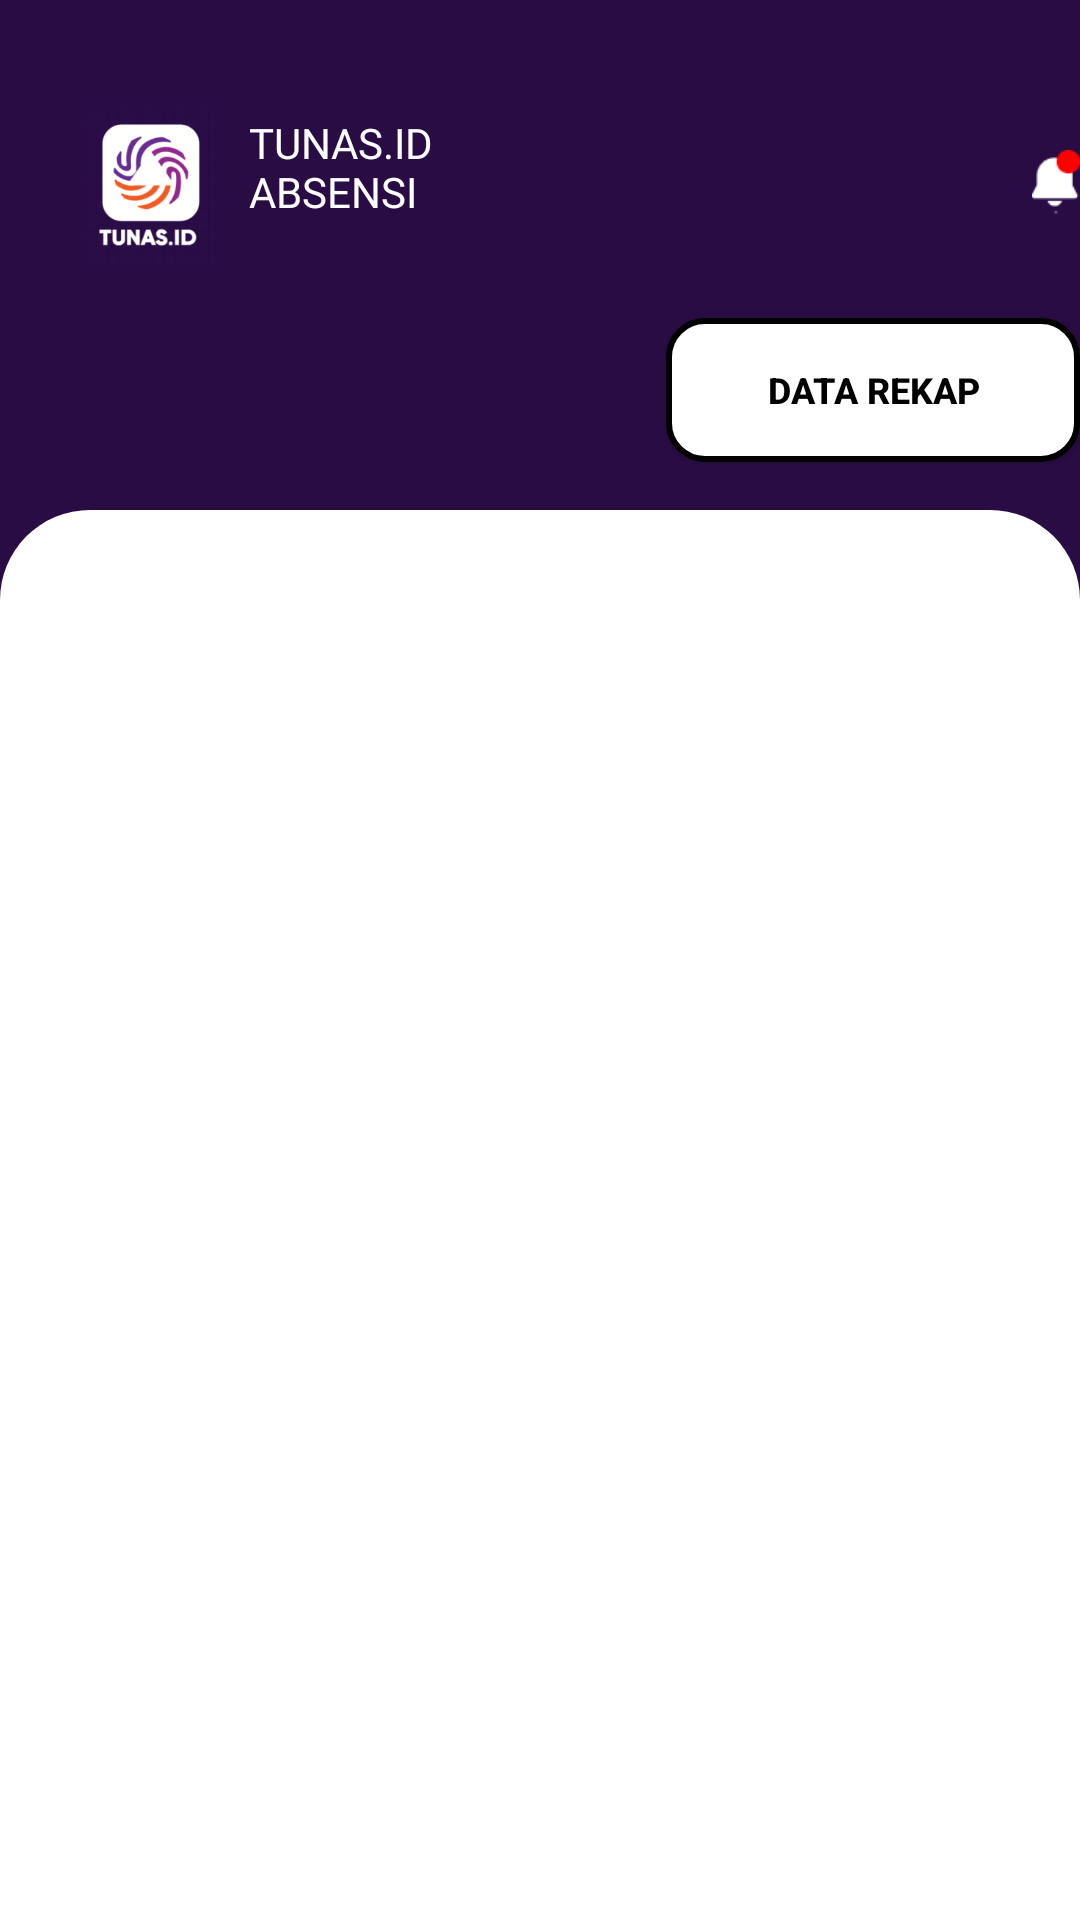

Icons on this 1080px×1920px Android screen, each with the point to tap as point (x, y):
notifikasi: point (1056, 182)
